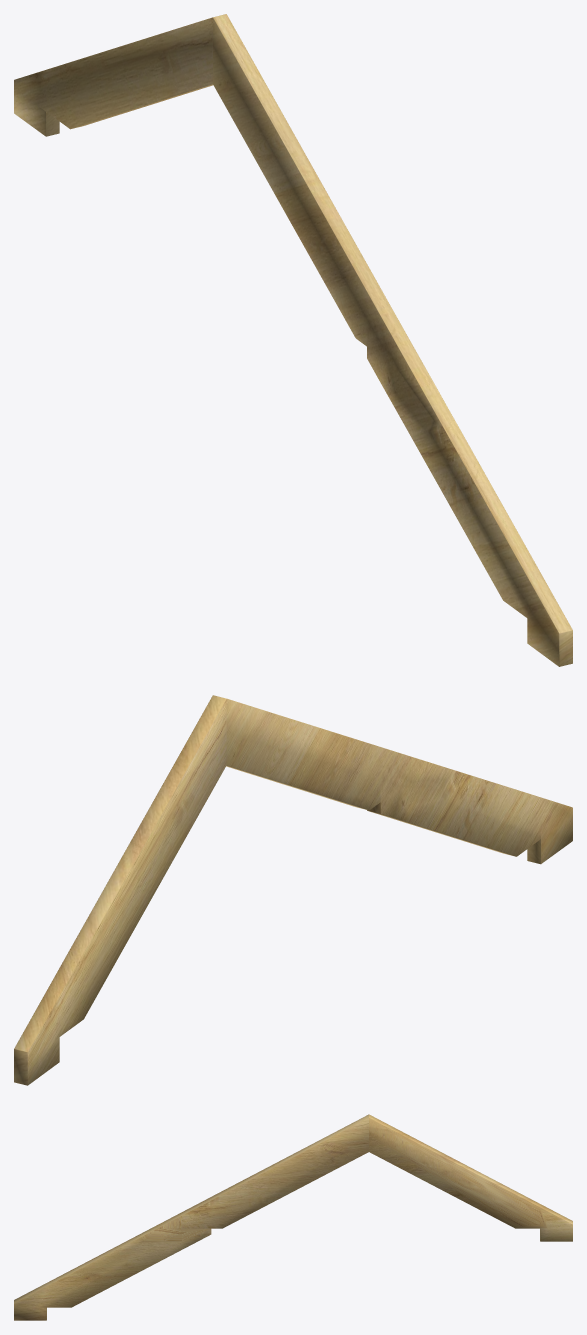
The picture shows the model from 3 angles, top to bottom: view 1: azimuth 30°, elevation 25°; view 2: azimuth 150°, elevation 25°; view 3: azimuth 270°, elevation 25°; orthographic projection. The views are drawn at different scales.
Visible parts, largest first — view 1: 1roof_bulk_0; view 2: 1roof_bulk_0; view 3: 1roof_bulk_0.
Boxes of the visible parts, x1=… form: 1roof_bulk_0: x1=14, y1=14, x2=572, y2=666; 1roof_bulk_0: x1=14, y1=695, x2=572, y2=1085; 1roof_bulk_0: x1=14, y1=1114, x2=572, y2=1320.
Size of the model in its own units: 0.0506 by 1.36 by 3.4.
1 material, 1 textured.
